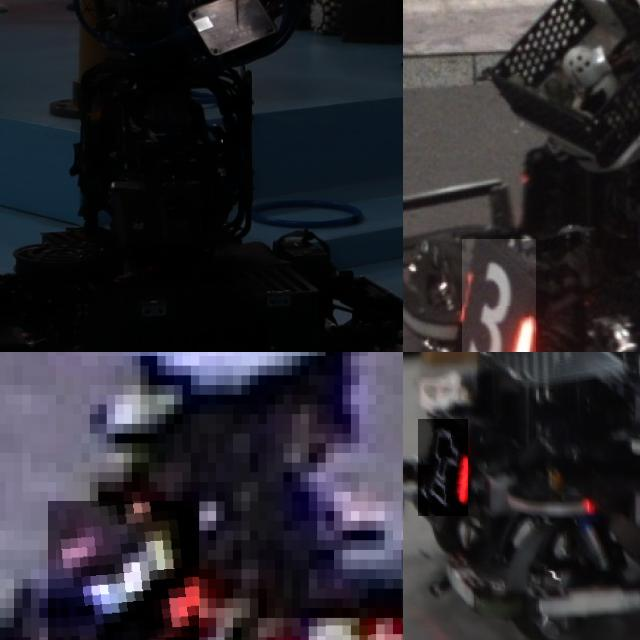R3: (47, 501, 199, 640), (462, 239, 536, 352)
Rs: (418, 419, 468, 516)
